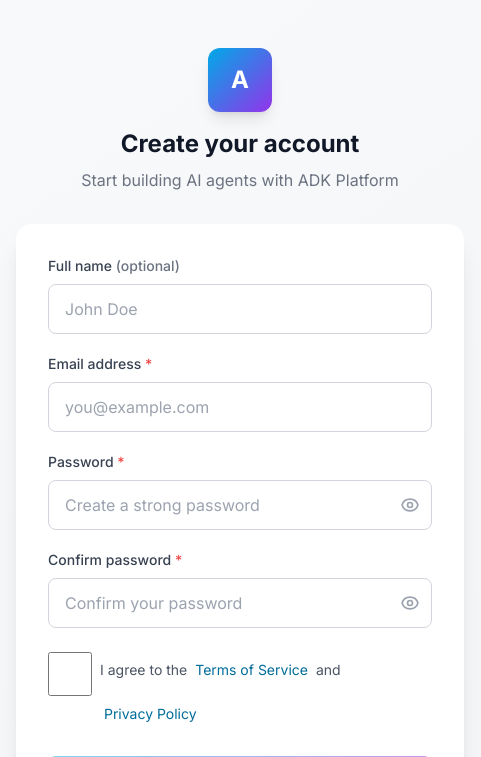
Test: RegisterPage › Form Interactions › disables submit button until terms accepted
The width and height of the screenshot is (481, 757).
What coordinates should you click on to do the following:
click the checkbox
I would click on:
 (70, 674)
Its box is x1=48 y1=652 x2=92 y2=696.
(page scrolled)
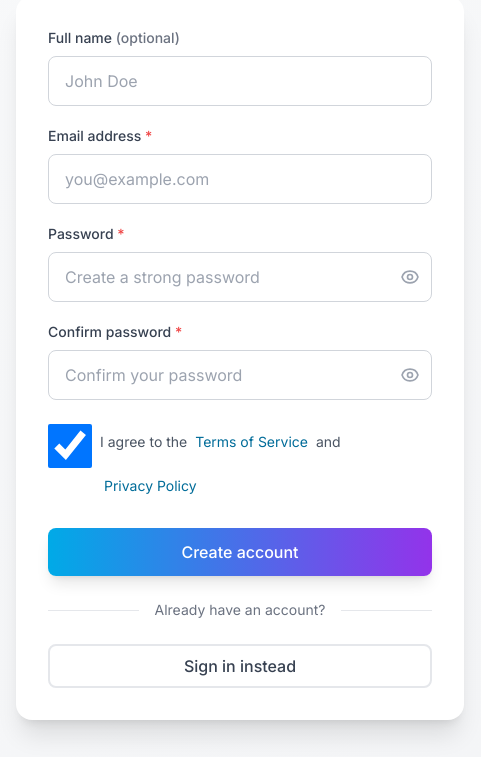
Expected: the button "Create account" is enabled, x1=48 y1=528 x2=432 y2=576
